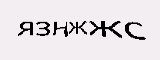Г: (32, 18, 47, 40)
Д: (81, 17, 100, 38)
Е: (99, 21, 109, 35)
И: (107, 19, 124, 37)
Ш: (47, 15, 82, 38)
